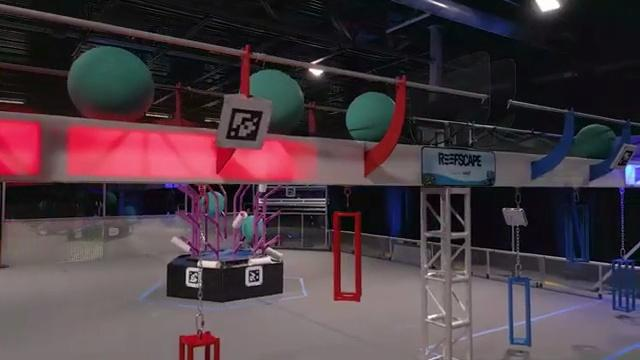ALGAE: (68, 44, 156, 125), (237, 68, 307, 136), (346, 91, 399, 144), (573, 124, 617, 162)
